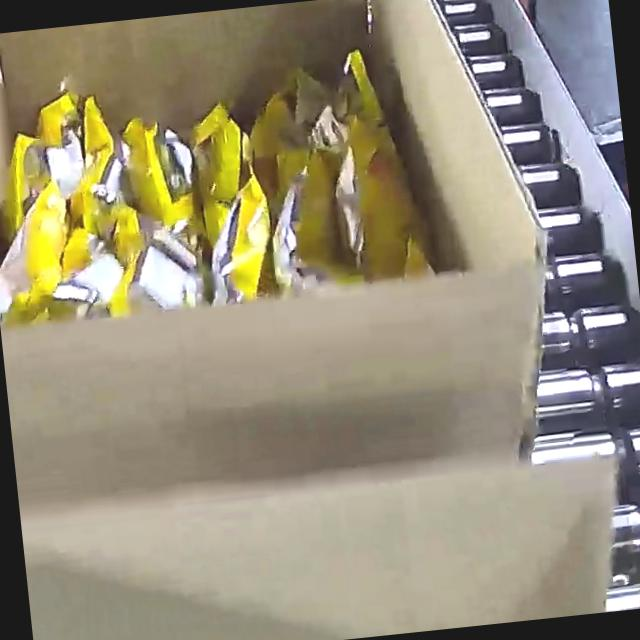salted: (0, 35, 443, 330)
